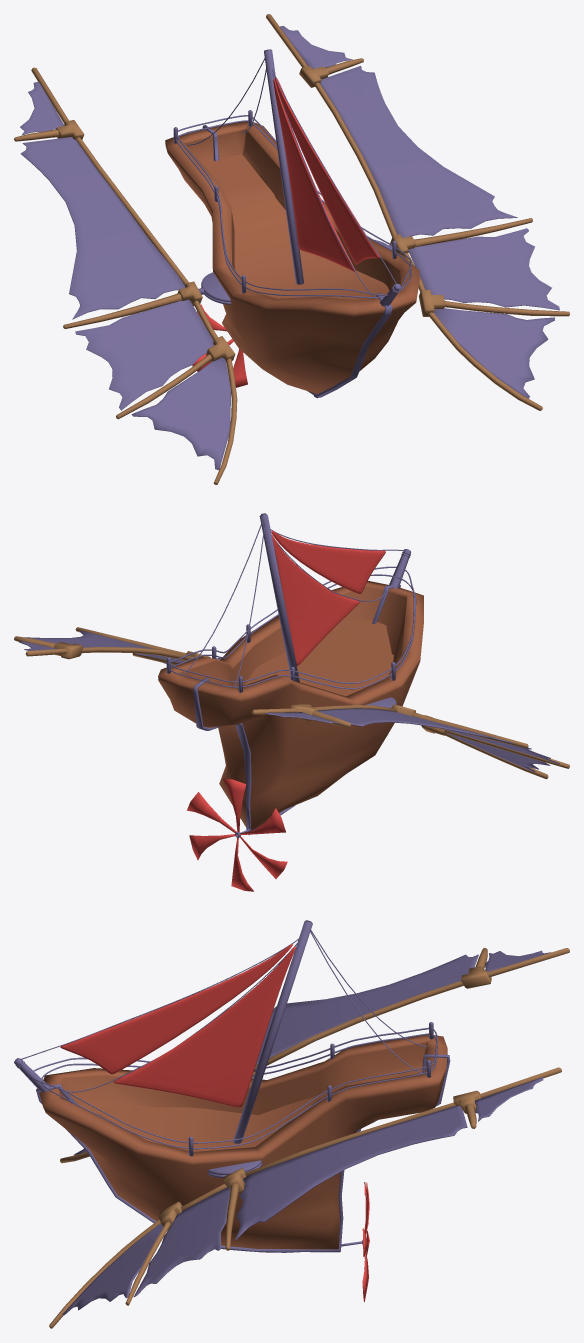
The model's file is ucan_gemi_2.fbx.
The picture shows the model from 3 angles, top to bottom: view 1: azimuth 30°, elevation 25°; view 2: azimuth 150°, elevation 25°; view 3: azimuth 270°, elevation 25°; orthographic projection. The views are drawn at different scales.
Parts seen in each view (by area): view 1: Plane.016; view 2: Plane.016; view 3: Plane.016.
Boxes of the visible parts, x1,y1,x2,y2 form: Plane.016: [14, 14, 569, 484]; Plane.016: [14, 513, 569, 891]; Plane.016: [14, 920, 569, 1328].
Size of the model in its own units: 815 by 602 by 800.
